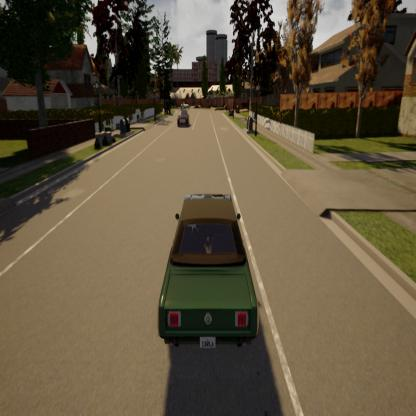Cars: (146, 183, 267, 360), (175, 108, 192, 131)
